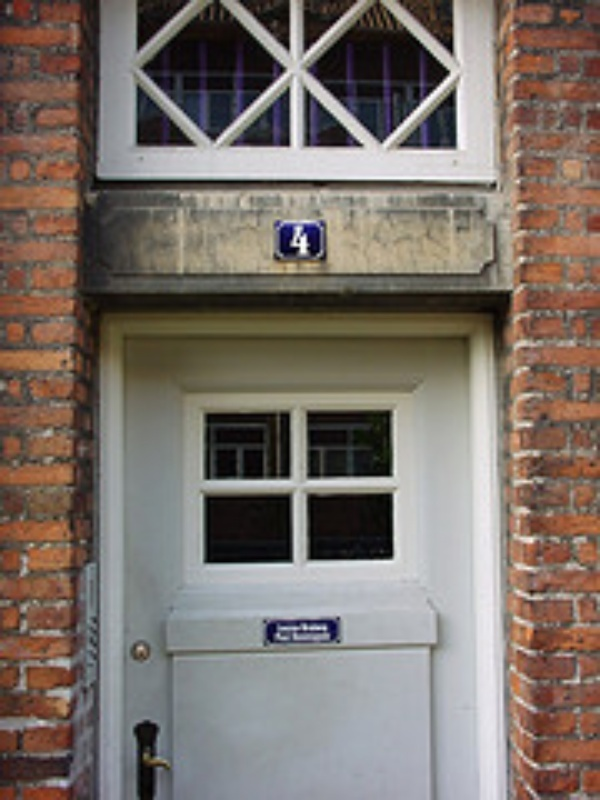text: (289, 224, 304, 261), (305, 224, 311, 261), (289, 621, 304, 634), (305, 621, 320, 634), (273, 631, 288, 644), (305, 631, 320, 644), (274, 621, 288, 634), (321, 631, 334, 644), (321, 621, 331, 634), (294, 631, 304, 644), (289, 631, 294, 644), (287, 224, 288, 261), (271, 631, 272, 644)
